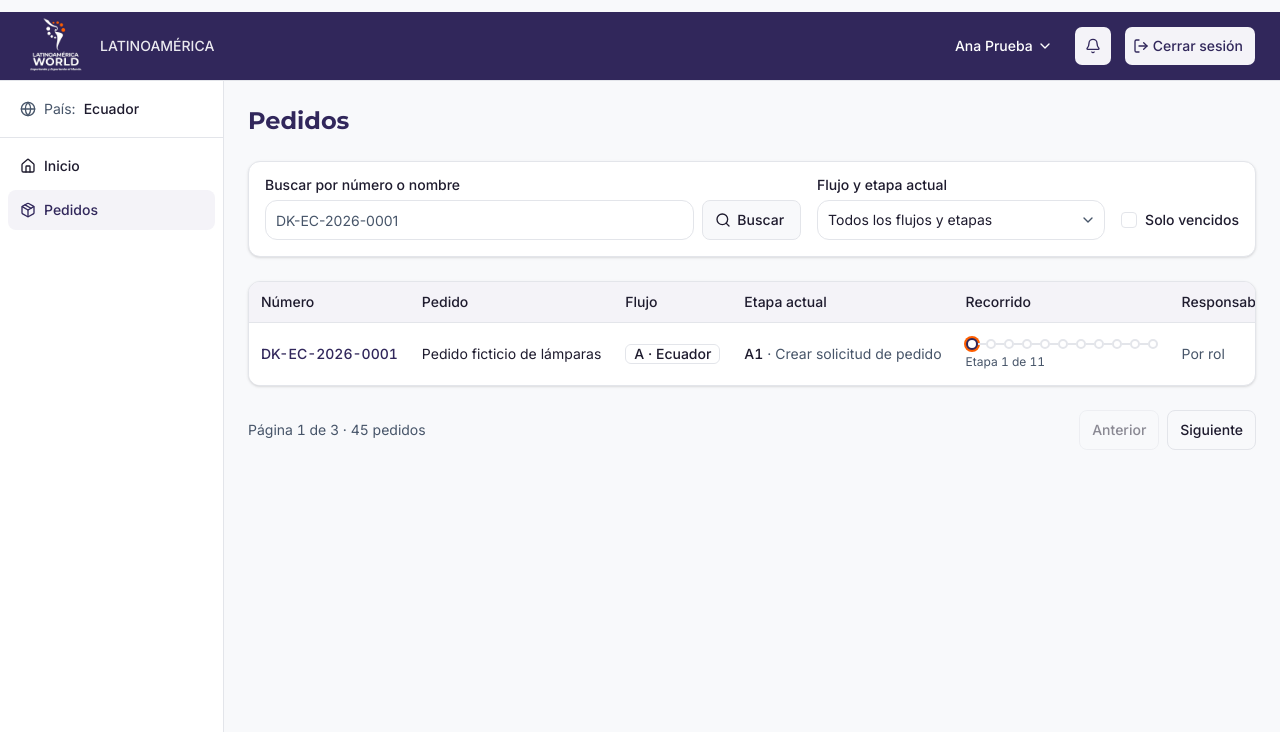
Test case: Lista de pedidos › pagina con el servidor
The width and height of the screenshot is (1280, 732).
Expected: the text "Página 1 de 3 · 45 pedidos" is shown, [248,420,426,440]
Click the button "Siguiente" at x=1212, y=430, box [1167,410,1256,450]
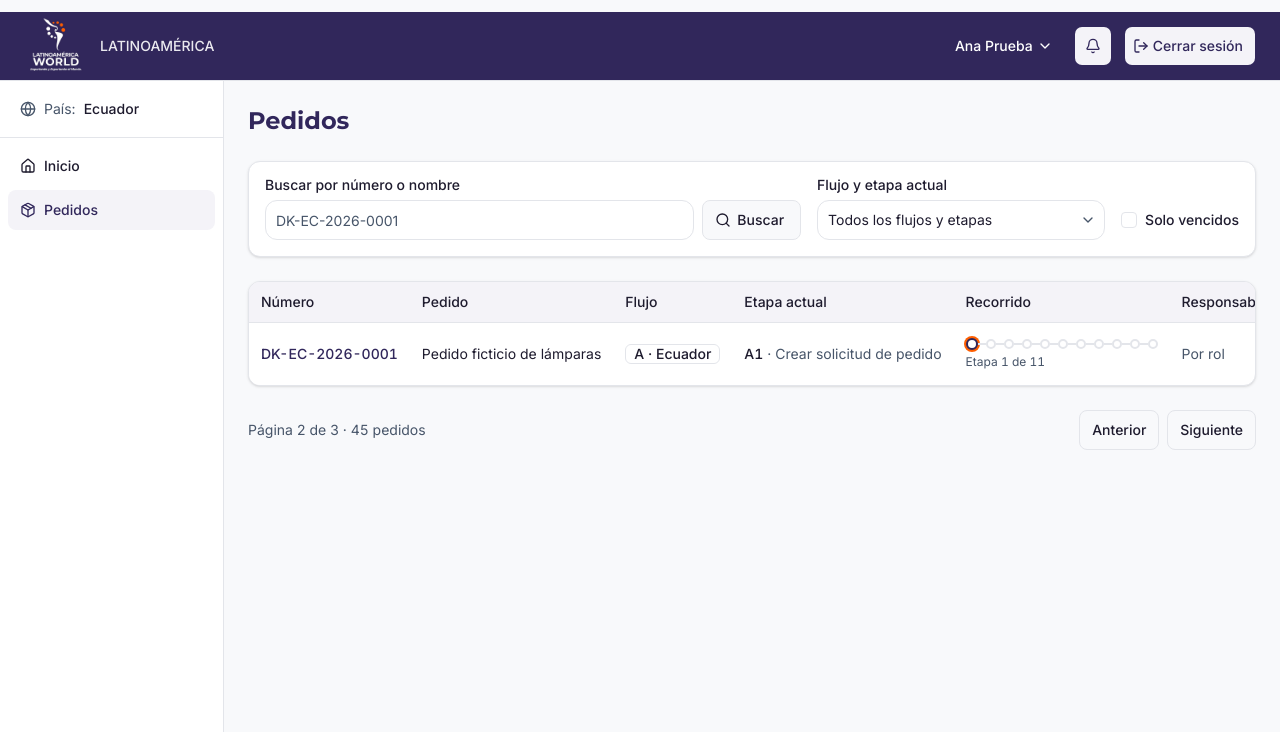
Expected: the text "Página 2 de 3 · 45 pedidos" is shown, [248,420,426,440]
